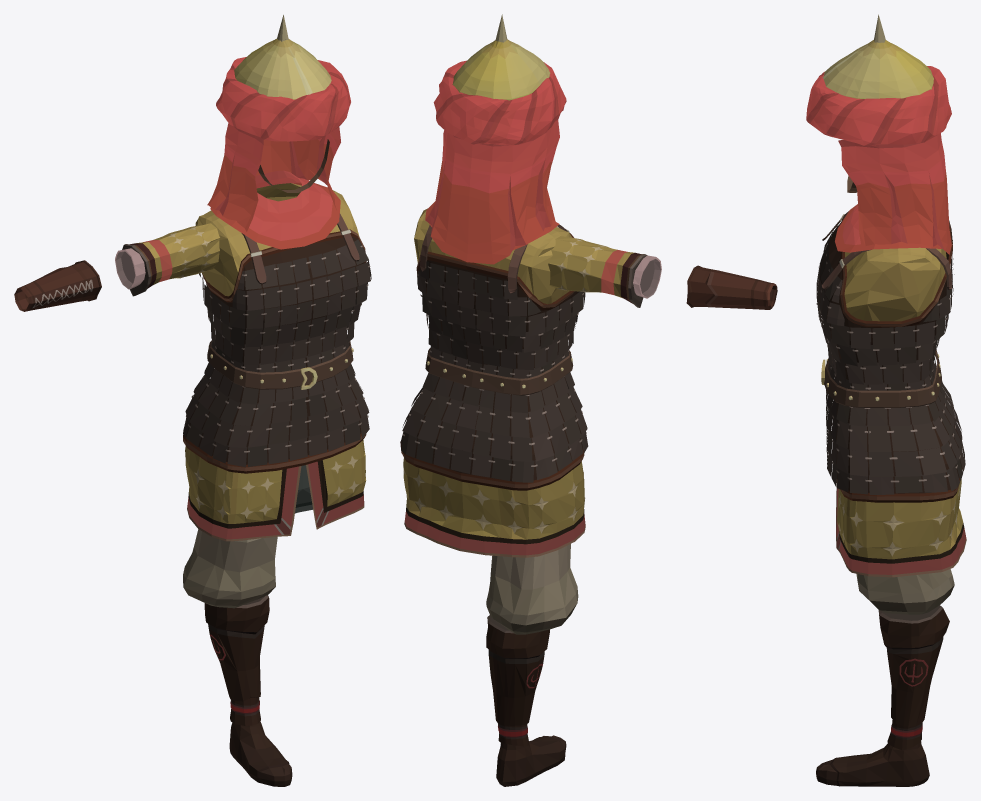
Rendered from arabianKnightFemale.glb.
3 views of the same model, side by side, from view 1: azimuth 30°, elevation 25°; view 2: azimuth 150°, elevation 25°; view 3: azimuth 270°, elevation 25° (orthographic). The views are drawn at different scales.
Parts seen in each view (by area): view 1: arabianKnightArmor, arabianKnightArmor.001, arabianKnightHelmet, arabianKnightUpperLeg, arabianKnightLowerLeg, arabianKnightArmor.004, arabianKnightUpperArm, arabianKnightLowerArm, arabianKnightArmor.003, arabianKnightFoot; view 2: arabianKnightArmor, arabianKnightHelmet, arabianKnightArmor.001, arabianKnightUpperLeg, arabianKnightUpperArm, arabianKnightLowerLeg, arabianKnightLowerArm, arabianKnightArmor.003, arabianKnightFoot; view 3: arabianKnightHelmet, arabianKnightArmor.001, arabianKnightArmor, arabianKnightLowerLeg, arabianKnightFoot, arabianKnightUpperLeg, arabianKnightArmor.003, arabianKnightArmor.004.
Part boxes in pixels (bbox=[...]): arabianKnightArmor: bbox=[183, 239, 371, 467]; arabianKnightArmor.001: bbox=[183, 183, 366, 541]; arabianKnightHelmet: bbox=[207, 15, 350, 231]; arabianKnightUpperLeg: bbox=[183, 529, 277, 608]; arabianKnightLowerLeg: bbox=[204, 595, 269, 725]; arabianKnightArmor.004: bbox=[210, 170, 340, 249]; arabianKnightUpperArm: bbox=[115, 223, 219, 296]; arabianKnightLowerArm: bbox=[14, 260, 101, 311]; arabianKnightArmor.003: bbox=[207, 341, 353, 389]; arabianKnightFoot: bbox=[229, 721, 292, 786]; arabianKnightArmor: bbox=[400, 261, 588, 482]; arabianKnightHelmet: bbox=[425, 14, 566, 264]; arabianKnightArmor.001: bbox=[400, 208, 585, 557]; arabianKnightUpperLeg: bbox=[486, 544, 578, 634]; arabianKnightUpperArm: bbox=[548, 236, 661, 307]; arabianKnightLowerLeg: bbox=[486, 615, 549, 746]; arabianKnightLowerArm: bbox=[686, 265, 777, 309]; arabianKnightArmor.003: bbox=[425, 348, 573, 395]; arabianKnightFoot: bbox=[496, 735, 566, 786]; arabianKnightHelmet: bbox=[806, 14, 951, 254]; arabianKnightArmor.001: bbox=[818, 211, 966, 577]; arabianKnightArmor: bbox=[816, 225, 965, 494]; arabianKnightLowerLeg: bbox=[878, 605, 949, 750]; arabianKnightFoot: bbox=[816, 741, 929, 786]; arabianKnightUpperLeg: bbox=[856, 569, 954, 614]; arabianKnightArmor.003: bbox=[821, 349, 941, 407]; arabianKnightArmor.004: bbox=[835, 204, 941, 252].
Bounding box in the file's own units: 1 × 2.06 × 0.3852.
